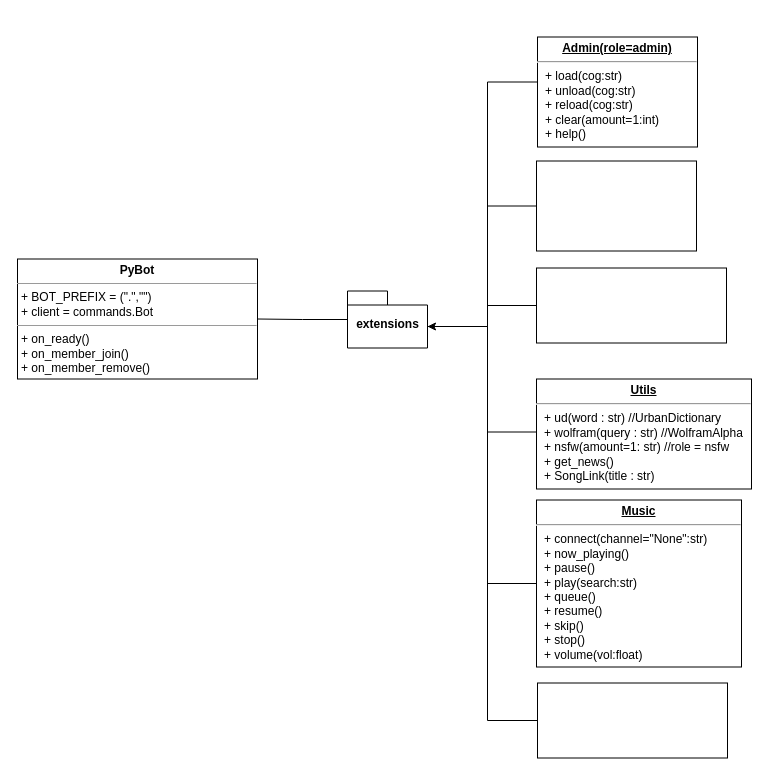
Image size: 769x776. Some labels were removed from this diagram. The box of each missing label's shape, as (x1, y1, x2, y2) in pixels:
Basic + hello() + 8ball() + join(arg="list" : str) + leave(arg="list" : str): (536, 160, 696, 251)
Error_Handler - on_command_error(error:Error) + do_repeatr(inp : str) // repeat: (536, 267, 726, 343)
Warframe Takes data from warframestats API: (536, 682, 728, 758)
